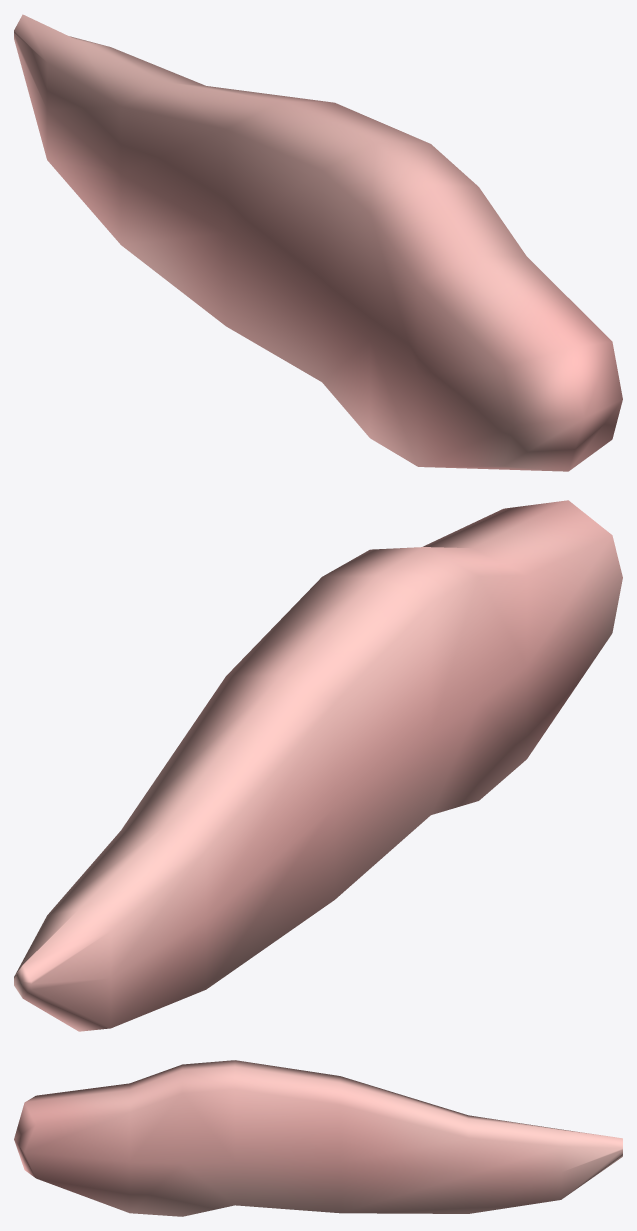
File: sasami01.fbx
The picture shows the model from 3 angles, top to bottom: view 1: azimuth 30°, elevation 25°; view 2: azimuth 150°, elevation 25°; view 3: azimuth 270°, elevation 25°; orthographic projection. The views are drawn at different scales.
Parts seen in each view (by area): view 1: pCube1; view 2: pCube1; view 3: pCube1.
Boxes of the visible parts, x1,y1,x2,y2 form: pCube1: (14, 14, 622, 471); pCube1: (14, 500, 622, 1031); pCube1: (14, 1060, 622, 1216).
Size of the model in its own units: 1.09 by 2.48 by 9.64.
1 material, 1 textured.
